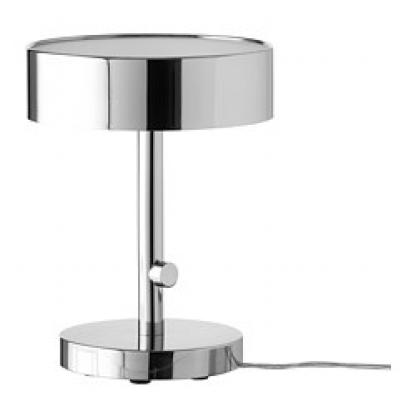Lamp: (13, 7, 286, 389)
